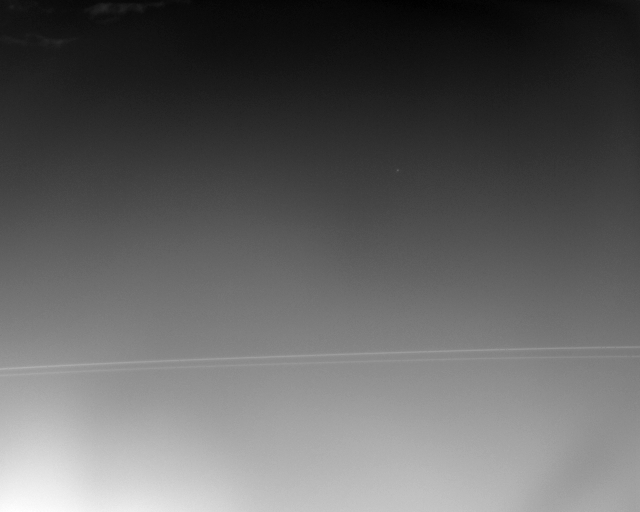Target: (396, 170, 398, 173)
